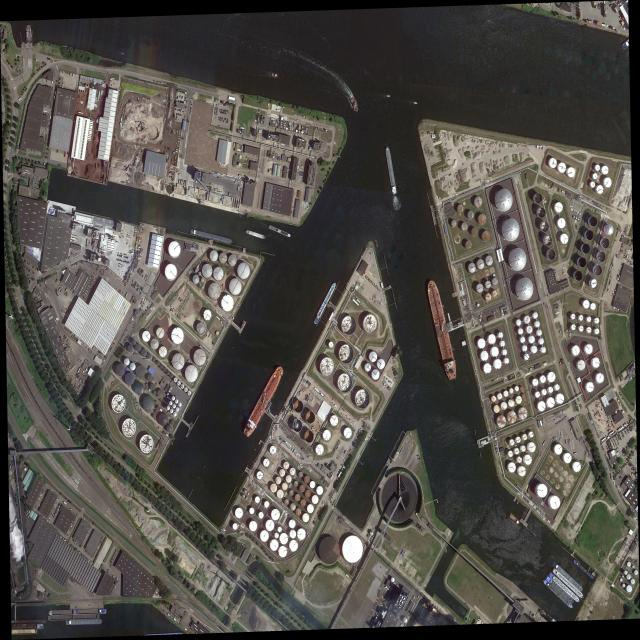large-vehicle: (118, 265, 124, 270), (119, 263, 125, 268), (77, 367, 81, 374), (77, 385, 81, 392), (160, 140, 164, 146), (561, 359, 565, 365), (65, 292, 69, 298), (56, 292, 60, 298), (610, 473, 613, 480), (77, 111, 84, 114), (38, 292, 41, 299), (167, 613, 171, 618), (55, 279, 59, 284), (52, 513, 55, 519), (18, 97, 22, 101), (63, 501, 67, 505), (44, 280, 47, 285), (136, 158, 139, 163), (46, 290, 49, 295), (143, 358, 148, 361), (58, 287, 61, 292), (169, 94, 171, 101), (43, 110, 47, 113), (157, 81, 161, 84), (153, 80, 157, 83), (114, 337, 118, 340), (120, 324, 123, 328), (114, 585, 117, 589), (50, 488, 53, 492), (25, 88, 28, 92), (65, 288, 68, 292), (61, 285, 64, 289), (57, 149, 59, 154), (164, 116, 166, 121), (185, 181, 187, 186), (573, 452, 578, 454), (560, 361, 562, 366), (134, 354, 139, 356), (131, 318, 134, 321), (70, 508, 73, 511), (48, 516, 51, 519), (48, 521, 51, 524), (60, 536, 63, 539), (78, 551, 81, 554), (51, 81, 53, 85), (74, 263, 76, 267), (176, 116, 178, 120), (167, 100, 169, 104), (180, 180, 182, 184), (184, 181, 186, 185), (550, 2, 552, 6), (88, 559, 90, 563), (62, 537, 64, 541), (57, 508, 59, 512), (72, 74, 74, 77), (69, 72, 71, 75), (43, 107, 46, 109), (178, 173, 181, 175), (91, 562, 93, 565), (58, 506, 60, 509), (179, 179, 180, 184), (113, 575, 114, 578), (117, 577, 118, 580)
ship: (241, 364, 286, 441), (425, 278, 458, 382), (550, 566, 585, 601), (547, 570, 582, 604), (551, 560, 585, 593), (542, 578, 575, 611), (313, 282, 338, 325), (545, 574, 575, 605), (189, 229, 234, 246), (385, 145, 398, 196), (572, 559, 595, 581), (48, 608, 108, 616), (48, 614, 101, 622), (268, 225, 292, 238), (65, 618, 104, 626), (244, 228, 267, 241), (12, 623, 44, 630), (12, 629, 38, 636), (12, 619, 47, 624), (349, 97, 359, 113), (620, 38, 631, 52), (509, 514, 520, 526), (374, 238, 379, 248), (271, 72, 278, 78), (282, 406, 287, 414), (413, 101, 418, 105), (121, 52, 125, 55), (387, 94, 391, 97), (74, 541, 77, 544), (46, 519, 49, 522)
small-vehicle: (40, 493, 43, 496)
storage-tank: (341, 534, 364, 564), (319, 536, 341, 566), (501, 218, 520, 242), (515, 278, 534, 301), (509, 247, 527, 271), (494, 189, 513, 211), (355, 388, 371, 409), (362, 313, 378, 334), (121, 418, 137, 438), (341, 316, 357, 336), (111, 393, 126, 414), (320, 357, 335, 377), (339, 344, 354, 364), (140, 433, 154, 454), (338, 373, 352, 393), (237, 262, 251, 280), (164, 264, 178, 281), (172, 353, 185, 371), (185, 365, 198, 383), (193, 349, 206, 367), (221, 294, 234, 312), (208, 282, 221, 300), (229, 279, 242, 297), (142, 395, 155, 412), (171, 328, 184, 345), (168, 241, 181, 258), (535, 482, 548, 498), (548, 495, 561, 509), (304, 429, 315, 444), (202, 264, 213, 278), (213, 267, 224, 281), (305, 410, 316, 424), (506, 411, 517, 424), (293, 400, 304, 413), (292, 419, 303, 432), (136, 365, 146, 379), (496, 416, 507, 428), (517, 408, 528, 420), (546, 249, 557, 261), (134, 382, 144, 395), (125, 372, 135, 385), (115, 364, 125, 377), (196, 322, 206, 335), (592, 265, 603, 276), (555, 393, 565, 405), (573, 270, 583, 282), (589, 278, 599, 290), (596, 250, 606, 262), (600, 237, 610, 249), (585, 381, 595, 393), (595, 372, 605, 384), (278, 546, 288, 558), (577, 256, 587, 268), (588, 215, 598, 227), (566, 166, 576, 178), (536, 207, 546, 219), (540, 221, 550, 233), (202, 309, 212, 321), (572, 461, 582, 473), (159, 413, 168, 426), (536, 401, 546, 412), (482, 363, 492, 374), (476, 338, 486, 349), (604, 224, 614, 235), (576, 360, 586, 371), (591, 357, 601, 368), (487, 334, 497, 345), (581, 243, 591, 254), (234, 507, 244, 518), (584, 229, 594, 240), (533, 193, 543, 204), (553, 202, 563, 213), (559, 233, 569, 244), (543, 235, 553, 246), (507, 462, 517, 473), (517, 466, 527, 477), (493, 358, 502, 370), (571, 345, 580, 357), (270, 539, 279, 551), (279, 533, 288, 545), (297, 528, 306, 540), (265, 520, 274, 532), (260, 530, 269, 542), (271, 509, 280, 521), (142, 330, 151, 342), (150, 338, 159, 350), (156, 327, 165, 339), (219, 252, 228, 264), (209, 250, 218, 262), (371, 369, 380, 381), (377, 358, 386, 370), (554, 443, 563, 455), (563, 452, 572, 464), (479, 351, 489, 361), (546, 397, 555, 408), (584, 344, 593, 355), (474, 197, 483, 208), (289, 540, 298, 551), (478, 214, 487, 225), (476, 258, 485, 269), (482, 231, 491, 242), (548, 157, 557, 168), (557, 218, 566, 229), (603, 177, 612, 188), (595, 184, 604, 195), (228, 255, 237, 266), (368, 351, 377, 362), (527, 442, 536, 453), (159, 346, 167, 358), (330, 414, 338, 426), (316, 443, 324, 455), (323, 429, 331, 441), (490, 347, 499, 357), (547, 372, 556, 382), (249, 521, 258, 531), (467, 263, 476, 273), (485, 255, 493, 266), (558, 162, 566, 173), (601, 165, 609, 176), (344, 427, 352, 438), (316, 485, 324, 496), (524, 454, 532, 465), (289, 529, 297, 539), (476, 283, 484, 293), (276, 489, 284, 499), (302, 513, 310, 523), (269, 445, 277, 455), (582, 300, 590, 309), (456, 204, 464, 213), (484, 293, 492, 302), (192, 275, 200, 284), (256, 471, 264, 480), (467, 210, 474, 220), (270, 483, 277, 493), (364, 362, 371, 372), (263, 458, 270, 468), (500, 402, 508, 410), (515, 396, 523, 404), (530, 346, 538, 354), (470, 228, 478, 236), (493, 405, 500, 414), (289, 519, 296, 528), (523, 315, 530, 324), (526, 325, 533, 334), (528, 335, 535, 344), (461, 222, 468, 231), (127, 344, 134, 353), (157, 389, 164, 398), (167, 185, 174, 194), (307, 504, 314, 513), (275, 476, 282, 485), (312, 495, 319, 504), (508, 399, 515, 407), (501, 348, 508, 356), (499, 340, 506, 348), (497, 332, 504, 340), (539, 375, 546, 383), (531, 379, 539, 386), (517, 327, 524, 335), (538, 337, 545, 345), (523, 353, 530, 361), (465, 241, 472, 249), (166, 425, 173, 433), (521, 433, 528, 441), (285, 475, 292, 483), (289, 468, 296, 476), (492, 277, 498, 286), (485, 280, 491, 289), (141, 348, 147, 357), (124, 357, 130, 366), (290, 502, 296, 511), (295, 508, 301, 517), (295, 493, 301, 502), (299, 484, 305, 493), (304, 475, 310, 484), (283, 461, 289, 470), (547, 386, 554, 393), (503, 358, 510, 365), (540, 389, 547, 396), (593, 328, 600, 335), (515, 319, 522, 326), (532, 312, 539, 319), (519, 336, 526, 343), (521, 345, 528, 352), (491, 290, 498, 297), (507, 450, 514, 457), (513, 448, 520, 455), (516, 456, 523, 463), (490, 395, 496, 403), (593, 316, 599, 324), (264, 500, 270, 508), (232, 522, 238, 530), (254, 496, 260, 504), (534, 320, 540, 328), (540, 346, 546, 354), (135, 344, 141, 352), (150, 383, 156, 391), (130, 363, 136, 371), (147, 374, 153, 382), (328, 341, 334, 349), (451, 220, 457, 228), (509, 438, 515, 446), (528, 430, 534, 438), (300, 499, 306, 507), (282, 483, 288, 491), (279, 469, 285, 477), (305, 490, 311, 498), (310, 481, 316, 489), (520, 445, 526, 453), (590, 180, 595, 189), (503, 390, 509, 397), (554, 384, 560, 391), (534, 391, 540, 398), (590, 303, 596, 310), (577, 315, 584, 321), (578, 325, 584, 332), (258, 512, 264, 519), (536, 329, 542, 336), (592, 173, 598, 180), (515, 436, 521, 443), (627, 585, 632, 593), (508, 388, 514, 394), (570, 324, 576, 330), (514, 385, 519, 392), (497, 393, 502, 400), (570, 313, 575, 320), (586, 327, 591, 334), (277, 526, 282, 533), (249, 507, 254, 514), (595, 164, 600, 171), (284, 499, 289, 506), (289, 490, 294, 497), (294, 480, 299, 487), (298, 471, 303, 478), (586, 316, 591, 322), (274, 532, 279, 538), (147, 354, 152, 360), (173, 377, 178, 383), (187, 390, 192, 396), (403, 617, 408, 623), (627, 574, 632, 580), (181, 383, 185, 390), (391, 576, 395, 583), (623, 570, 628, 575), (634, 570, 639, 575), (522, 393, 526, 399), (132, 339, 136, 345), (169, 373, 173, 379), (177, 381, 181, 387), (166, 405, 170, 411), (184, 387, 188, 393), (631, 578, 635, 584), (627, 561, 631, 567), (520, 386, 524, 391), (242, 494, 246, 499), (244, 489, 248, 494), (153, 390, 157, 395), (170, 409, 174, 414), (173, 412, 177, 417), (169, 401, 173, 406), (172, 404, 176, 409), (178, 402, 182, 407), (175, 399, 179, 404), (156, 361, 160, 366), (163, 368, 167, 373), (170, 420, 174, 425), (152, 414, 156, 419), (154, 410, 158, 415), (201, 278, 205, 283), (160, 364, 163, 370), (167, 370, 170, 376), (195, 268, 198, 274), (166, 384, 170, 388), (156, 406, 160, 410), (176, 407, 179, 412), (216, 331, 219, 336), (622, 583, 625, 588), (477, 303, 480, 307), (166, 392, 169, 396), (168, 389, 171, 393), (169, 386, 172, 390), (165, 387, 168, 391), (198, 272, 201, 276), (301, 130, 304, 134), (295, 129, 298, 133), (238, 163, 241, 167), (93, 256, 96, 260), (93, 253, 96, 257), (620, 578, 623, 582), (632, 565, 635, 569), (280, 123, 283, 126), (92, 260, 95, 263), (90, 256, 93, 259), (622, 575, 625, 578), (246, 496, 248, 500), (284, 121, 286, 125), (87, 258, 89, 262), (90, 259, 92, 263), (280, 126, 282, 129), (281, 121, 283, 124), (283, 126, 285, 129), (284, 124, 286, 127), (91, 253, 93, 256), (399, 606, 401, 609), (289, 445, 291, 448), (573, 216, 575, 219), (576, 217, 578, 220), (578, 218, 580, 221), (148, 389, 150, 391), (400, 606, 402, 608), (401, 604, 403, 606), (400, 604, 402, 606), (288, 444, 290, 446), (287, 443, 289, 445), (286, 442, 288, 444), (284, 441, 286, 443), (248, 493, 249, 496), (299, 130, 300, 133), (399, 603, 400, 605), (397, 602, 398, 604)
